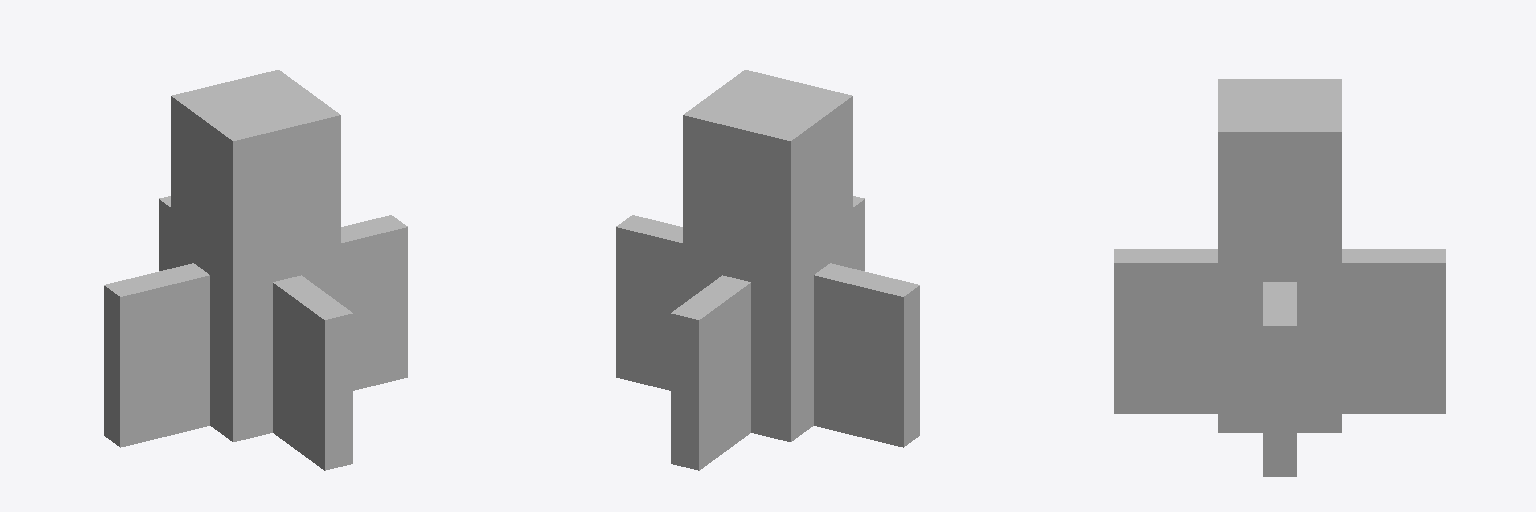
The model's file is tower-cross.obj.
3 views of the same model, side by side, from view 1: azimuth 30°, elevation 25°; view 2: azimuth 150°, elevation 25°; view 3: azimuth 270°, elevation 25° (orthographic).
Parts seen in each view (by area): view 1: Cube_1; view 2: Cube_1; view 3: Cube_1.
Part boxes in pixels (bbox=[...]): Cube_1: bbox=[104, 70, 407, 470]; Cube_1: bbox=[616, 70, 919, 470]; Cube_1: bbox=[1114, 79, 1445, 476].
Bounding box in the file's own units: 200 × 200 × 200.